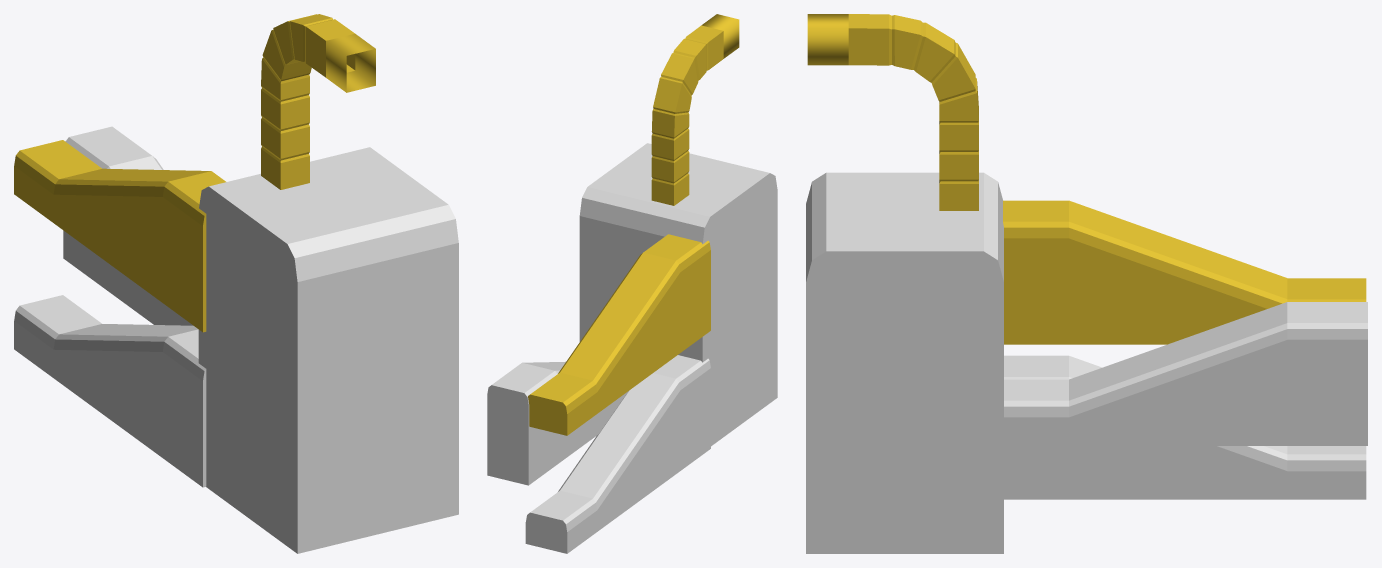
Rendered from maze1_3rd_face.fbx.
The picture shows the model from 3 angles, left to right: view 1: azimuth 30°, elevation 25°; view 2: azimuth 150°, elevation 25°; view 3: azimuth 270°, elevation 25°; orthographic projection. The views are drawn at different scales.
Visible parts, largest first — view 1: Hedge_Straight_Cube.005, Hedge_Ramp_Cube.010, Hedge_Ramp_Cube.007, Stone_Arch_Cube.006, Hedge_Ramp_Cube.011; view 2: Hedge_Straight_Cube.005, Hedge_Ramp_Cube.010, Hedge_Ramp_Cube.007, Hedge_Ramp_Cube.011, Stone_Arch_Cube.006; view 3: Hedge_Straight_Cube.005, Hedge_Ramp_Cube.011, Hedge_Ramp_Cube.010, Hedge_Ramp_Cube.007, Stone_Arch_Cube.006.
Boxes of the visible parts, x1,y1,x2,y2 form: Hedge_Straight_Cube.005: (198, 147, 458, 553); Hedge_Ramp_Cube.010: (14, 140, 225, 332); Hedge_Ramp_Cube.007: (14, 295, 206, 487); Stone_Arch_Cube.006: (261, 14, 375, 189); Hedge_Ramp_Cube.011: (63, 126, 192, 325); Hedge_Straight_Cube.005: (579, 143, 777, 446); Hedge_Ramp_Cube.010: (528, 234, 710, 435); Hedge_Ramp_Cube.007: (525, 355, 710, 553); Hedge_Ramp_Cube.011: (487, 361, 628, 485); Stone_Arch_Cube.006: (651, 14, 739, 205); Hedge_Straight_Cube.005: (806, 172, 1003, 553); Hedge_Ramp_Cube.011: (1004, 302, 1367, 445); Hedge_Ramp_Cube.010: (1003, 200, 1366, 344); Hedge_Ramp_Cube.007: (1004, 355, 1366, 499); Stone_Arch_Cube.006: (807, 14, 978, 210).
Bounding box in the file's own units: 2461 × 6929 × 7264.
